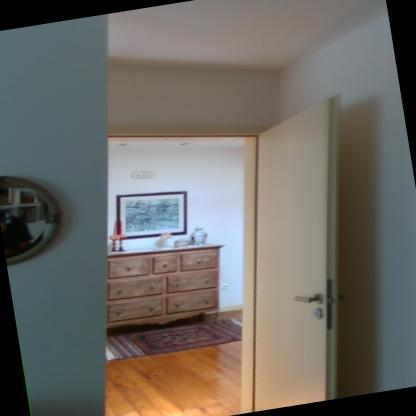open: (51, 81, 391, 415)
